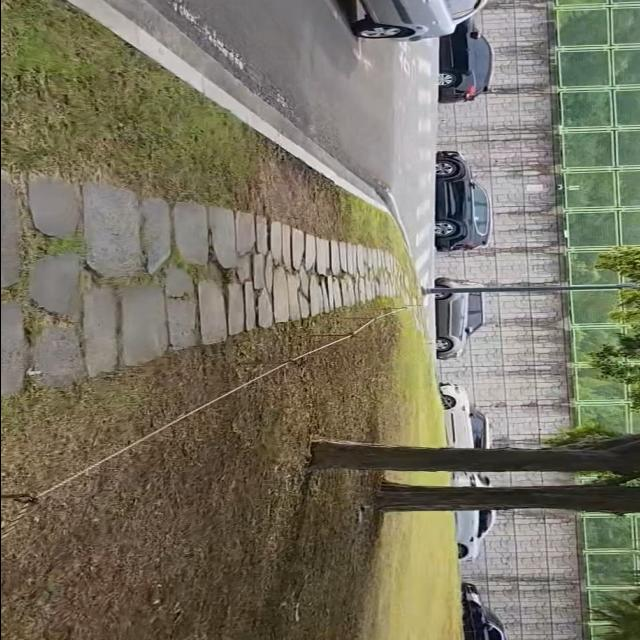obstacle: (326, 0, 502, 50), (429, 144, 502, 255), (430, 6, 497, 105), (430, 271, 493, 362)
road: (101, 0, 439, 335)
